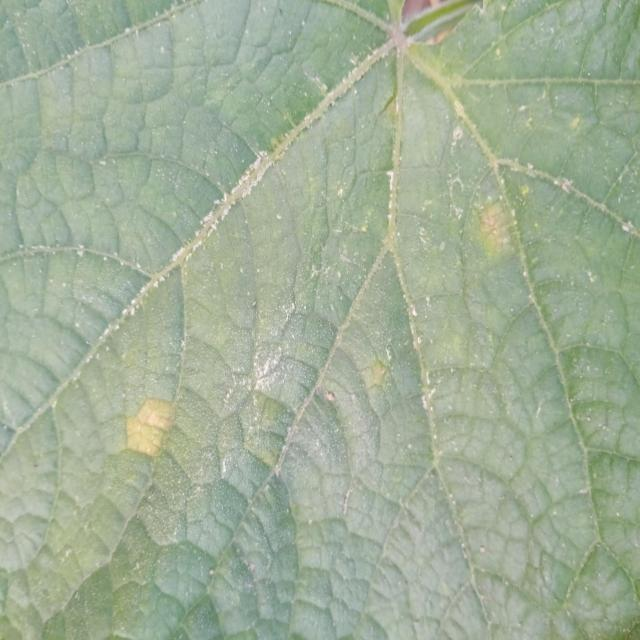cucumber_downy: (12, 8, 640, 640)
